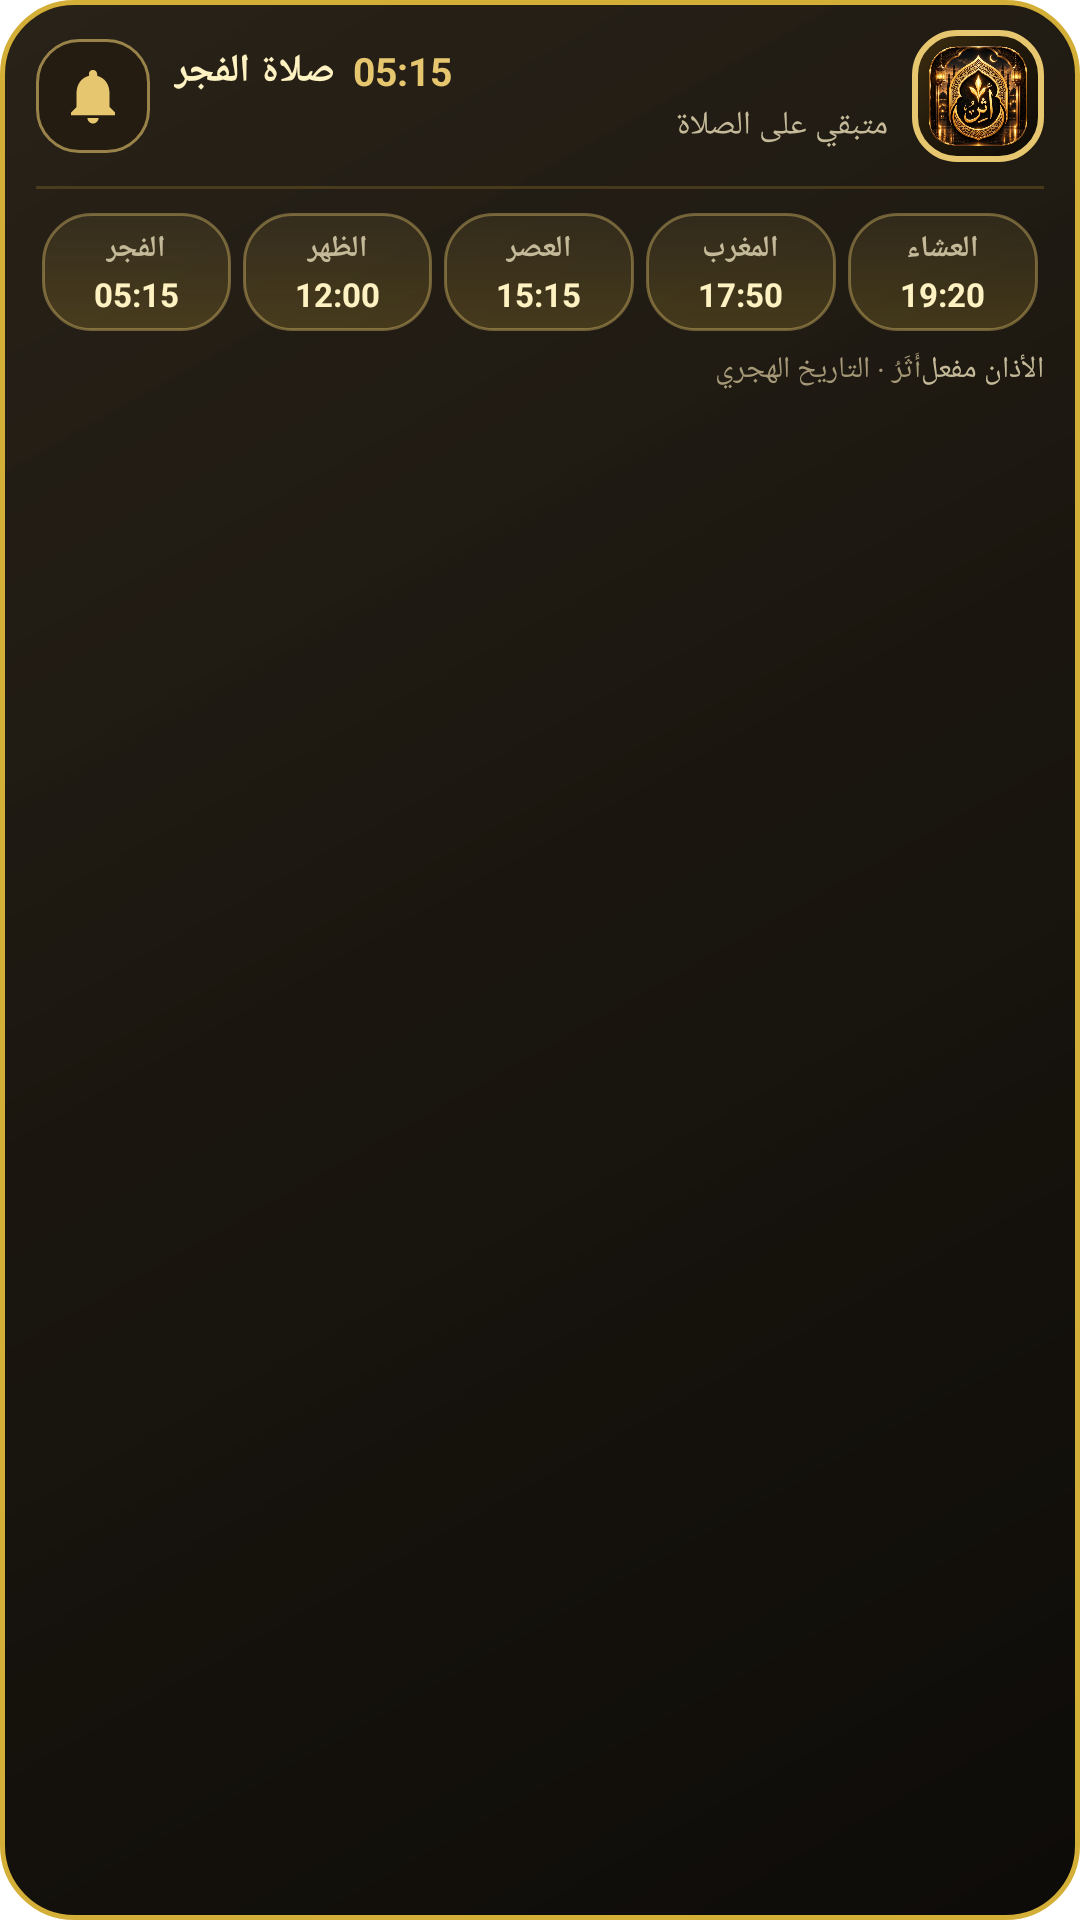

Icon click points for this 1080*1920 phone screenshot, format (x,y):
تبديل تنبيه الأذان: (93,96)
